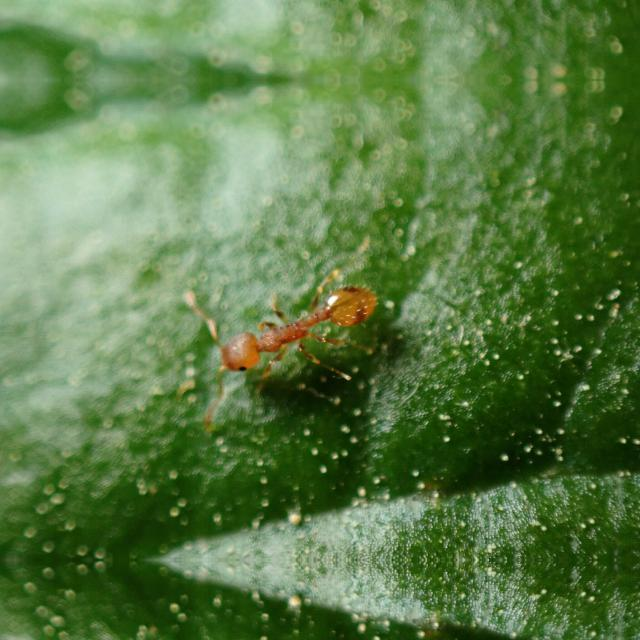Temnothorax: (175, 257, 409, 397)
